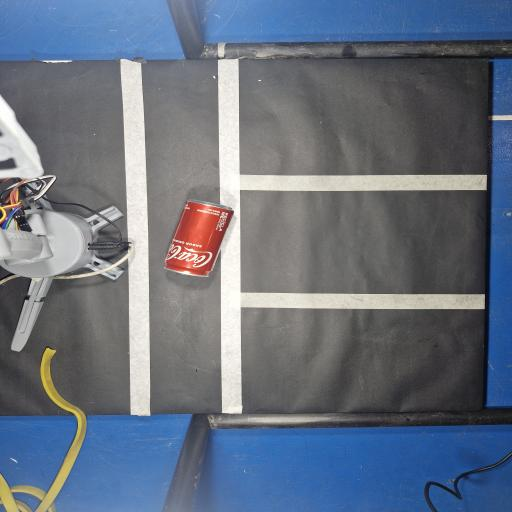lata: (165, 200, 233, 276)
